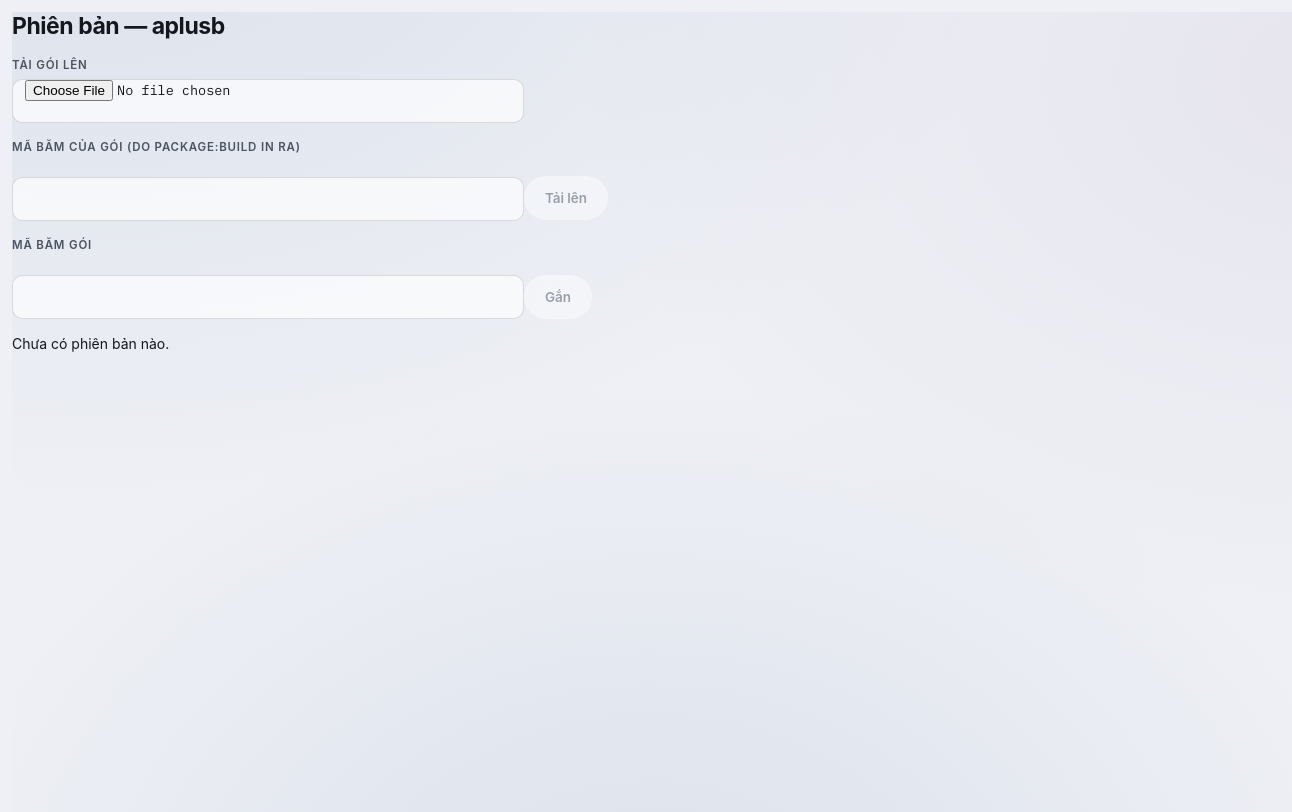
Test case: ProblemRevisionsPage › a failed attach shows the server error code
This screenshot has width=1292, height=812.
Expected: the text "Chưa có phiên bản nào." is shown, 12,335 -> 169,352
Type "deadbeef" into the field labelled "Mã băm gói".
click(268, 297); type("deadbeef")  # box 12,275 -> 524,319
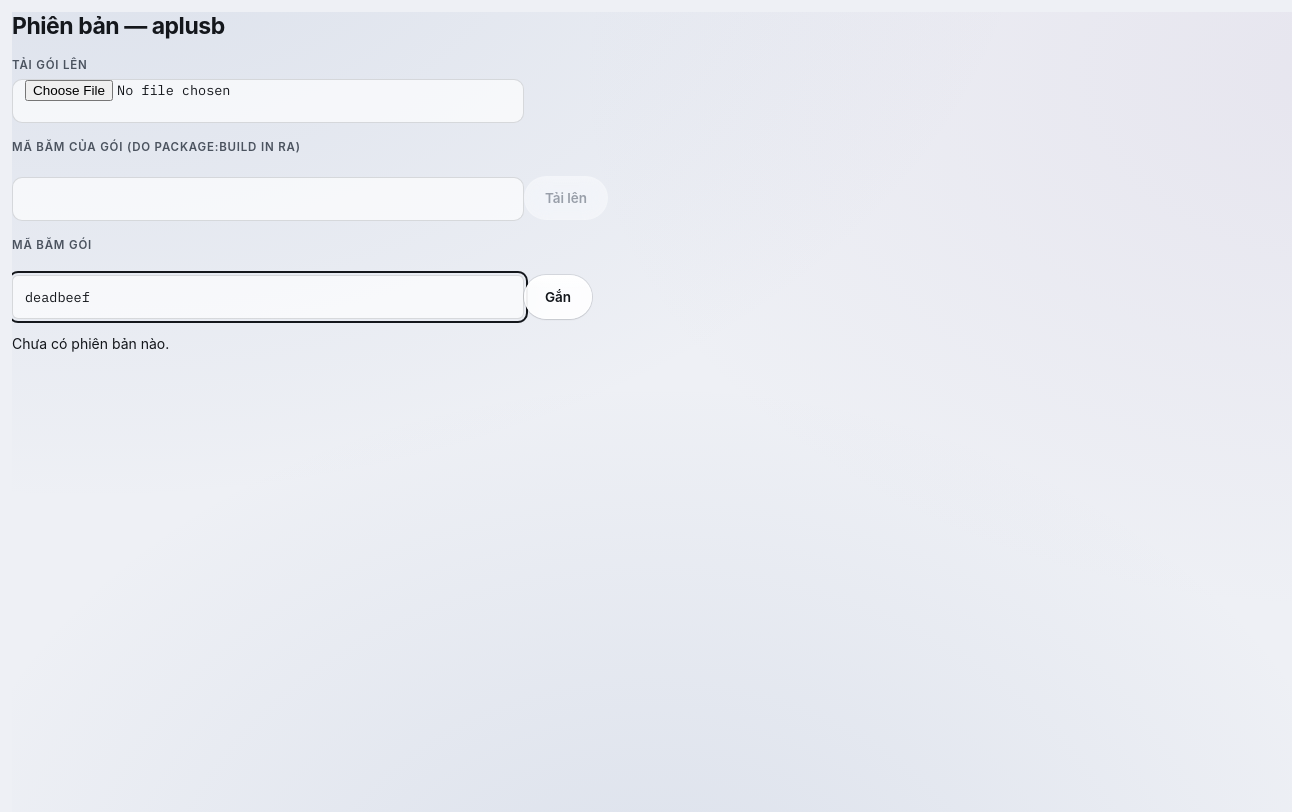
Click the button "Gắn".
click(558, 297)  # box 524,275 -> 592,319
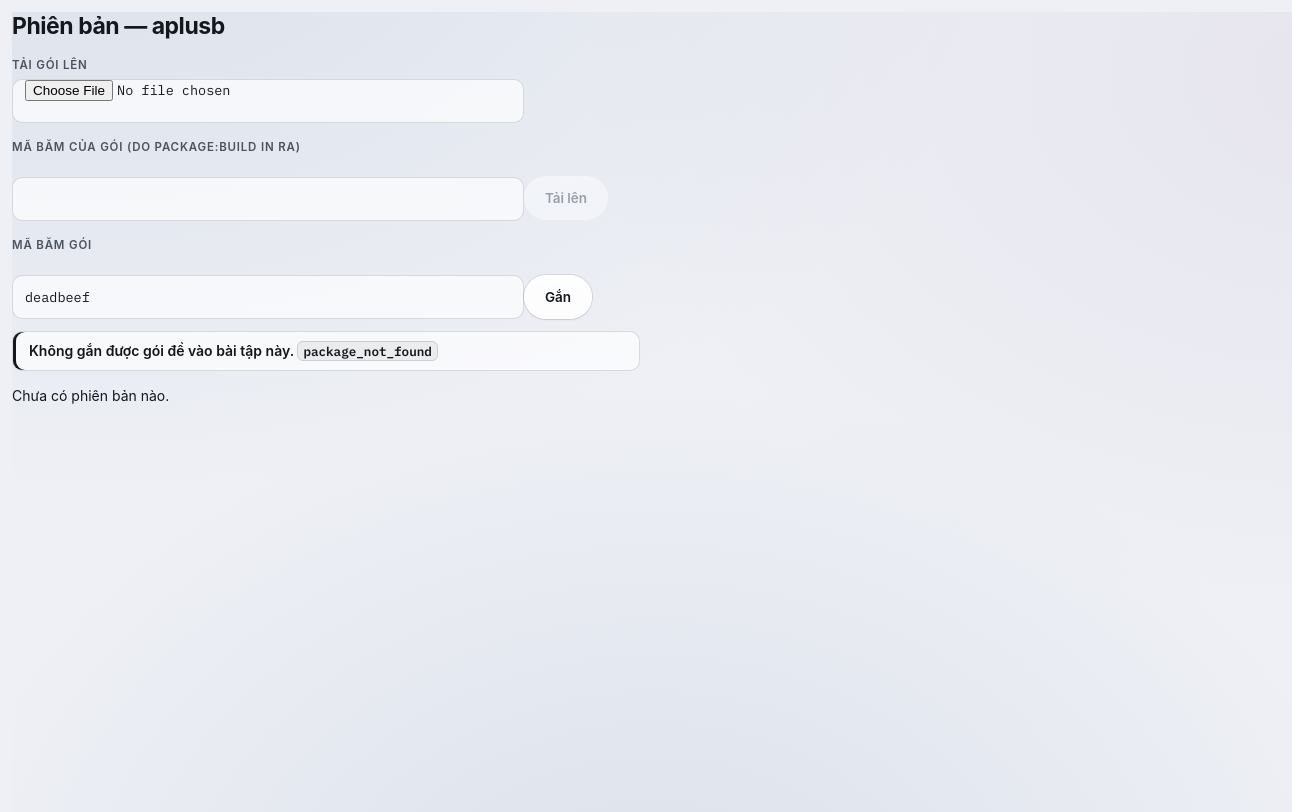
Result: the text "package_not_found" is shown at 297,341 -> 438,361
